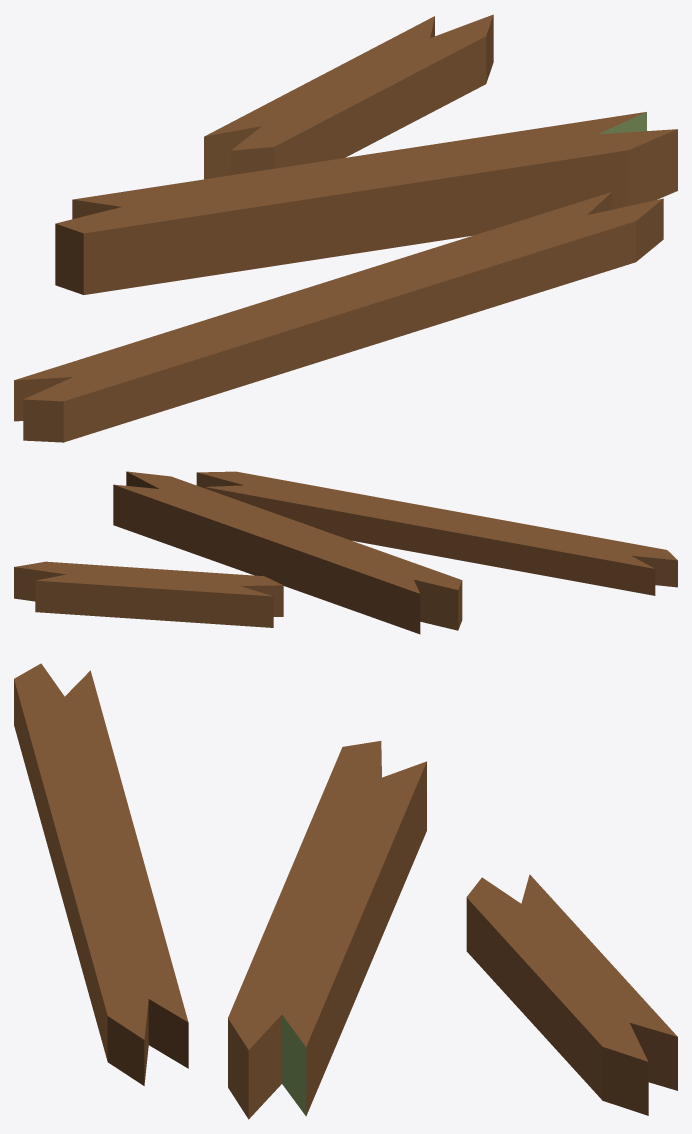
Rendered from SM_MarshwardTimberDebris_01.fbx.
3 views of the same model, one above another, from view 1: azimuth 30°, elevation 25°; view 2: azimuth 150°, elevation 25°; view 3: azimuth 270°, elevation 25° (orthographic). The views are drawn at different scales.
Parts seen in each view (by area): view 1: SM_MarshwardTimberDebris_01; view 2: SM_MarshwardTimberDebris_01; view 3: SM_MarshwardTimberDebris_01.
Part boxes in pixels (x1,y1,x2,y2): SM_MarshwardTimberDebris_01: (14, 14, 677, 442); SM_MarshwardTimberDebris_01: (14, 471, 677, 634); SM_MarshwardTimberDebris_01: (14, 663, 677, 1119).
Size of the model in its own units: 380 by 260 by 30.
